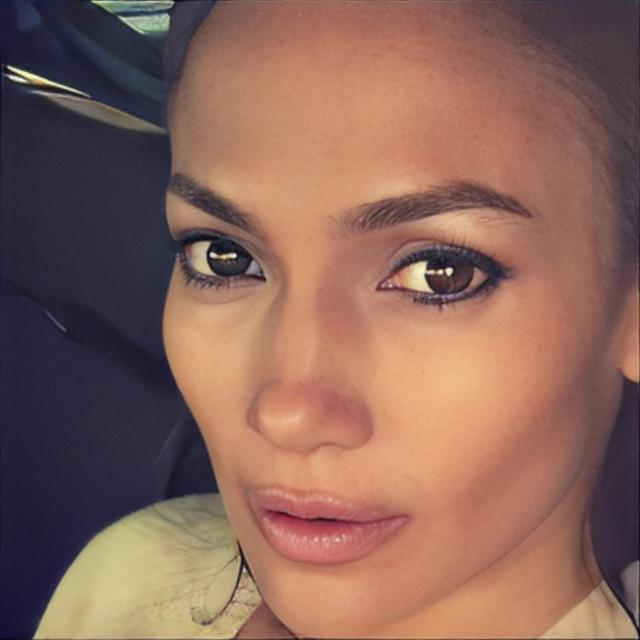neutral: (159, 0, 622, 640)
